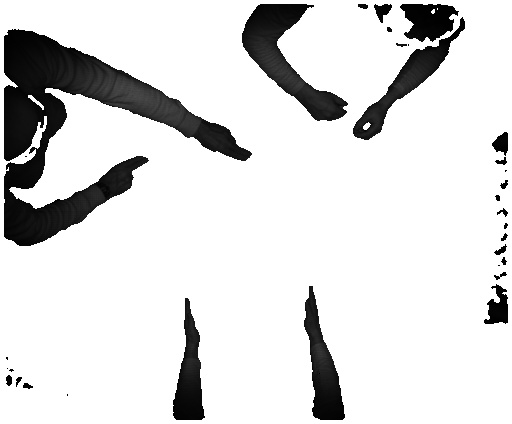fist: (309, 87, 353, 131), (354, 106, 391, 143)
hand: (199, 122, 255, 167), (100, 152, 151, 200)
spine: (304, 280, 327, 343), (184, 296, 199, 352)
